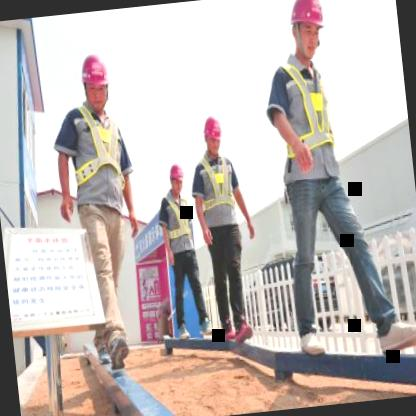helmet: (285, 0, 328, 57), (78, 50, 115, 114), (200, 112, 224, 157), (166, 161, 186, 196)
